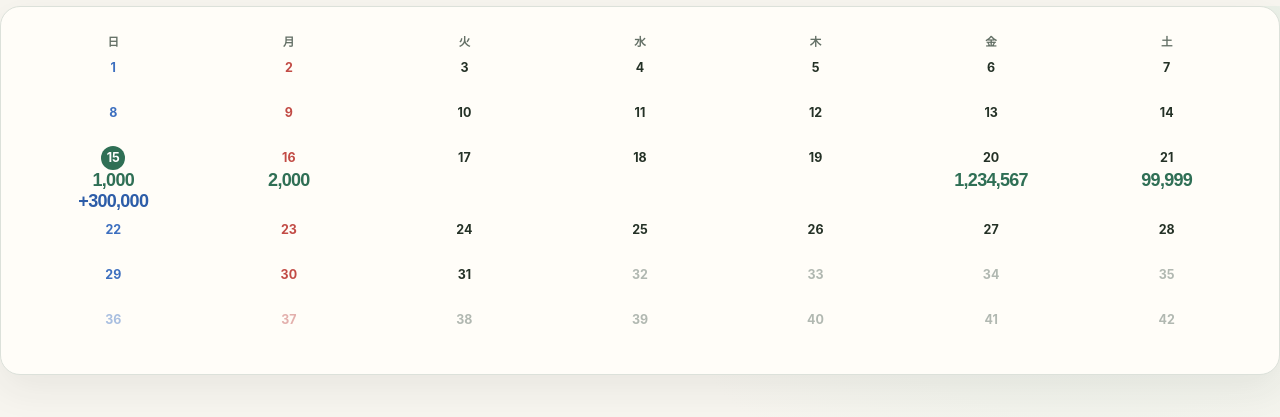
Test: CalendarDayExplorer › 日別取引sheetの各行にカテゴリ名と許可済み色tokenをdata属性で表示する
Click the link named "2026年8月15日、支出￥1,000、収入￥300,000".
click(113, 178)  # box [78,146,148,211]
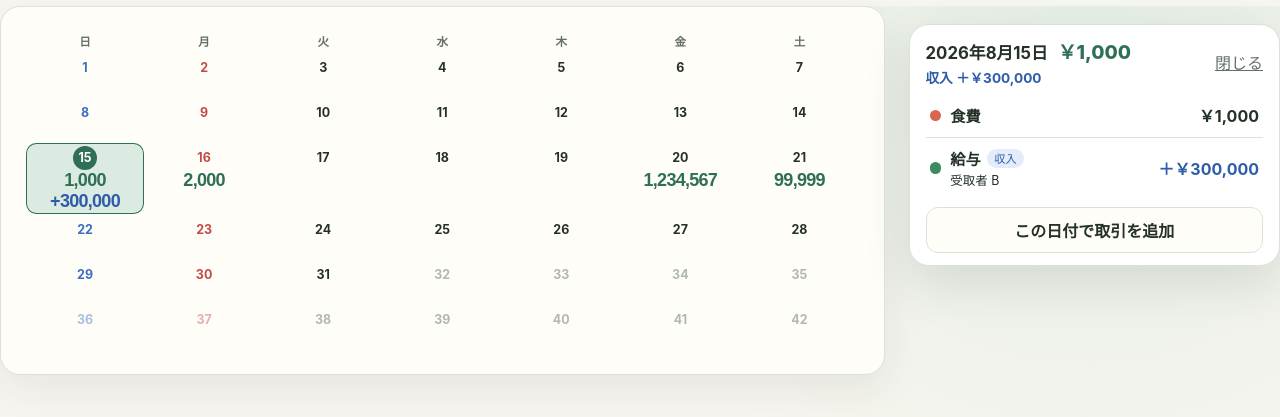
Check: the text "食費" is shown, box [950,105,981,127]
Check: the text "給与" is shown, box [950,148,981,170]
